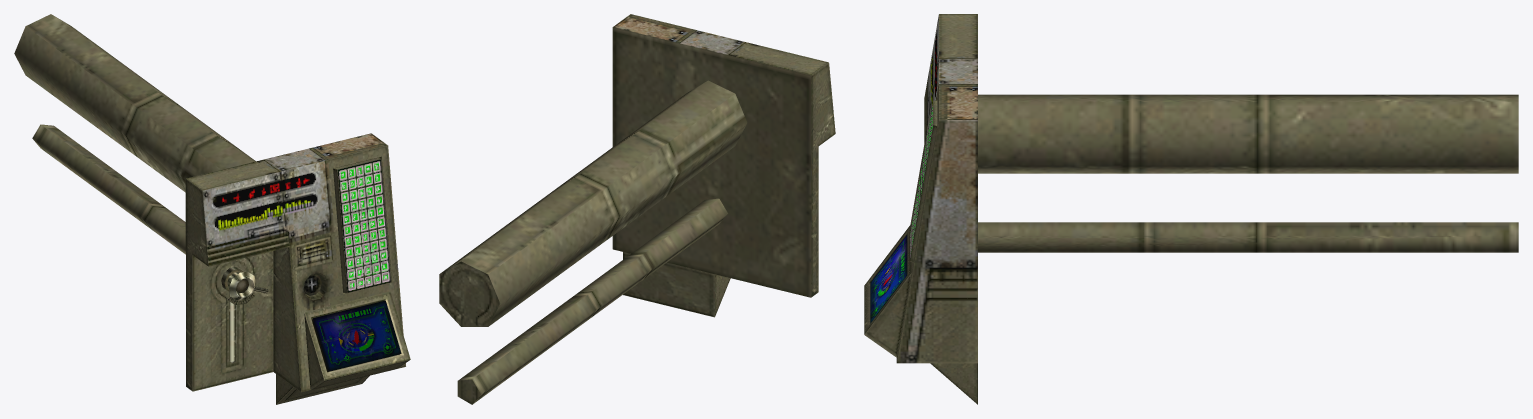
File: frn_all_data_terminal_wall_s2_l0.fbx
3 renders of one model, left to right at view 1: azimuth 30°, elevation 25°; view 2: azimuth 150°, elevation 25°; view 3: azimuth 270°, elevation 25°, orthographic. The views are drawn at different scales.
Parts seen in each view (by area): view 1: mesh_node; view 2: mesh_node; view 3: mesh_node.
Boxes of the visible parts, x1,y1,x2,y2 form: mesh_node: [14, 14, 410, 404]; mesh_node: [439, 14, 835, 404]; mesh_node: [864, 14, 1518, 404].
Bounding box in the file's own units: 0.4636 × 0.5927 × 1.21.
2 materials, 2 textured.
